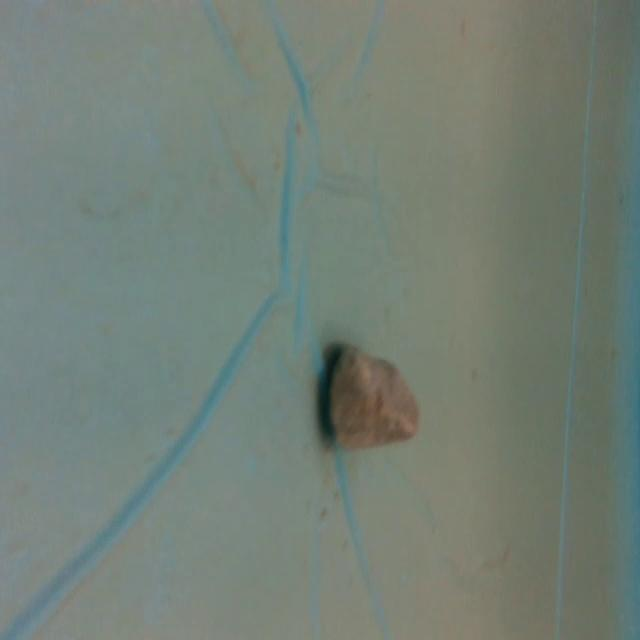rock: (323, 339, 425, 457)
